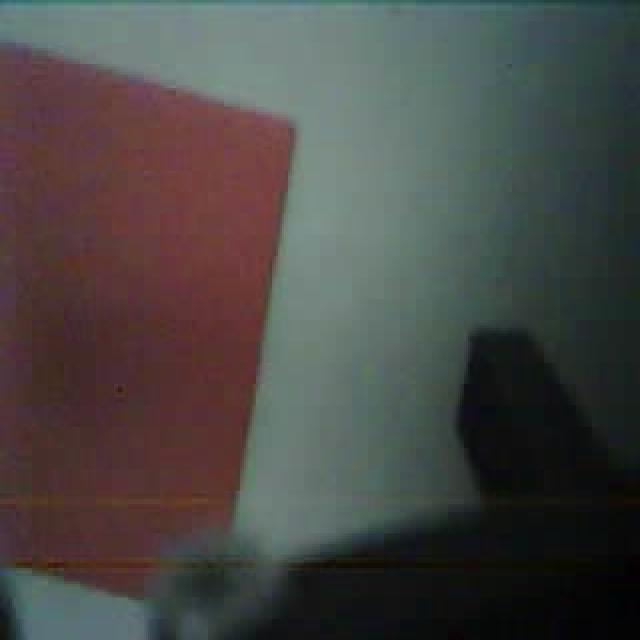red_box: (0, 35, 300, 592)
